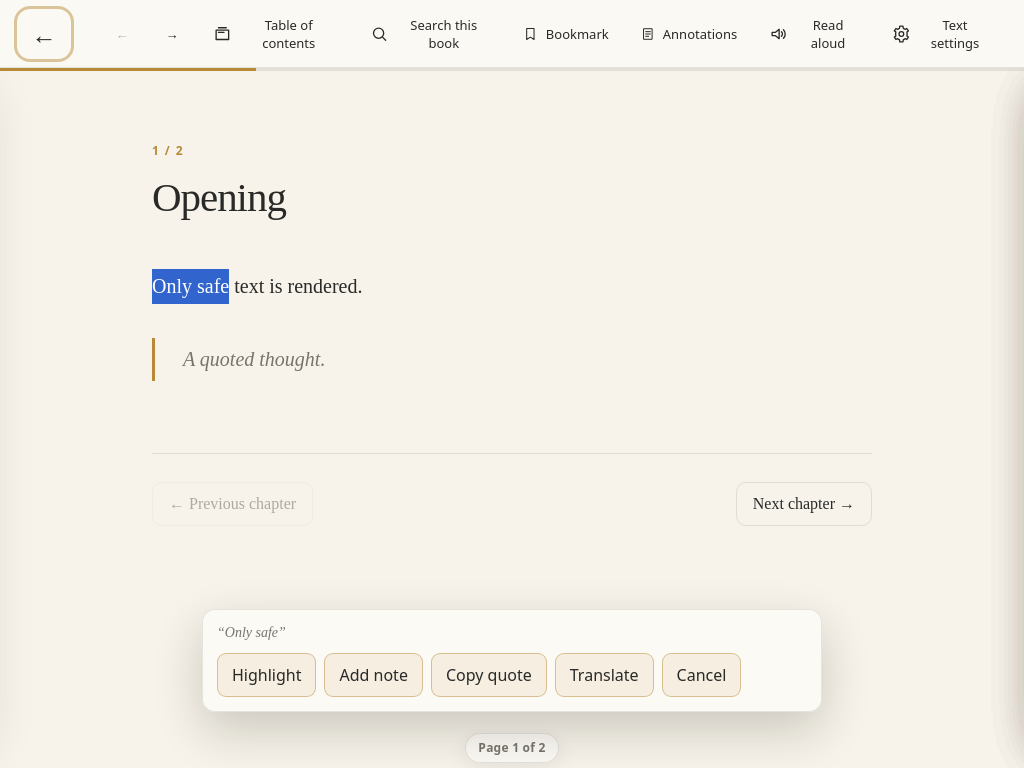
Test: ReaderScreen › keeps a quote saved when clipboard access is unavailable
The image size is (1024, 768).
Click the button "Copy quote" at (489, 675), box left=431, top=653, right=547, bottom=697
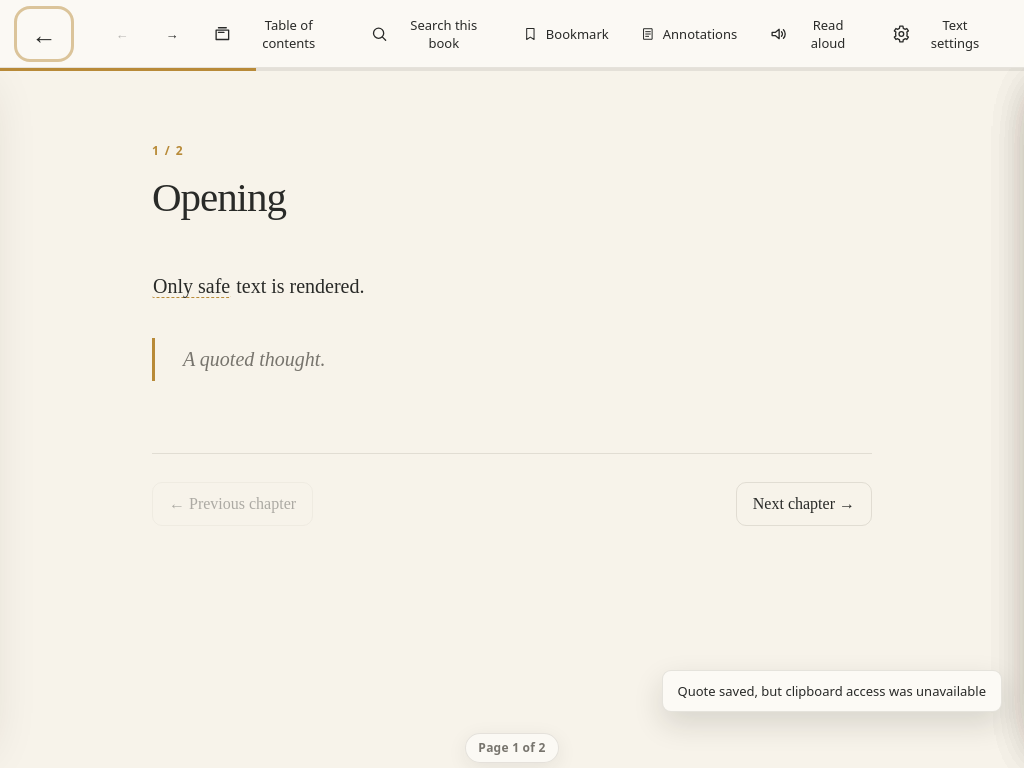
Check: the text "Quote saved, but clipboard access was unavailable" is shown, box left=662, top=670, right=1002, bottom=712
Click the button "Annotations" at (689, 34), box left=628, top=12, right=750, bottom=56
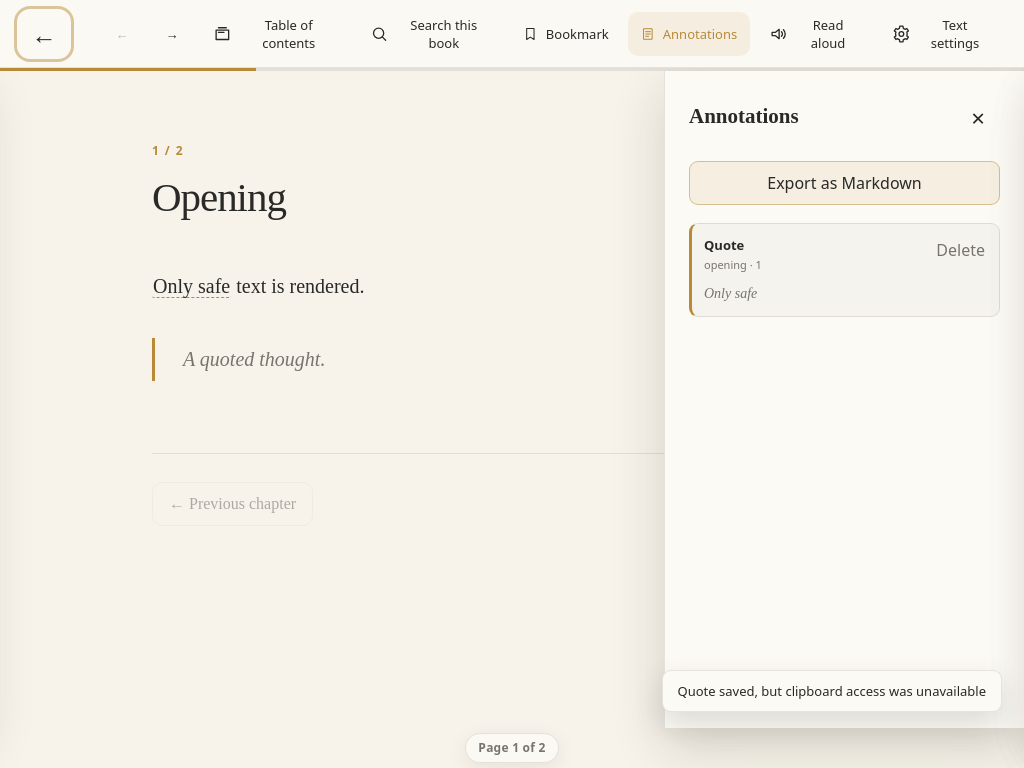
Check: the text "Only safe" is shown 2 times, box left=704, top=286, right=757, bottom=301; left=152, top=275, right=231, bottom=298
